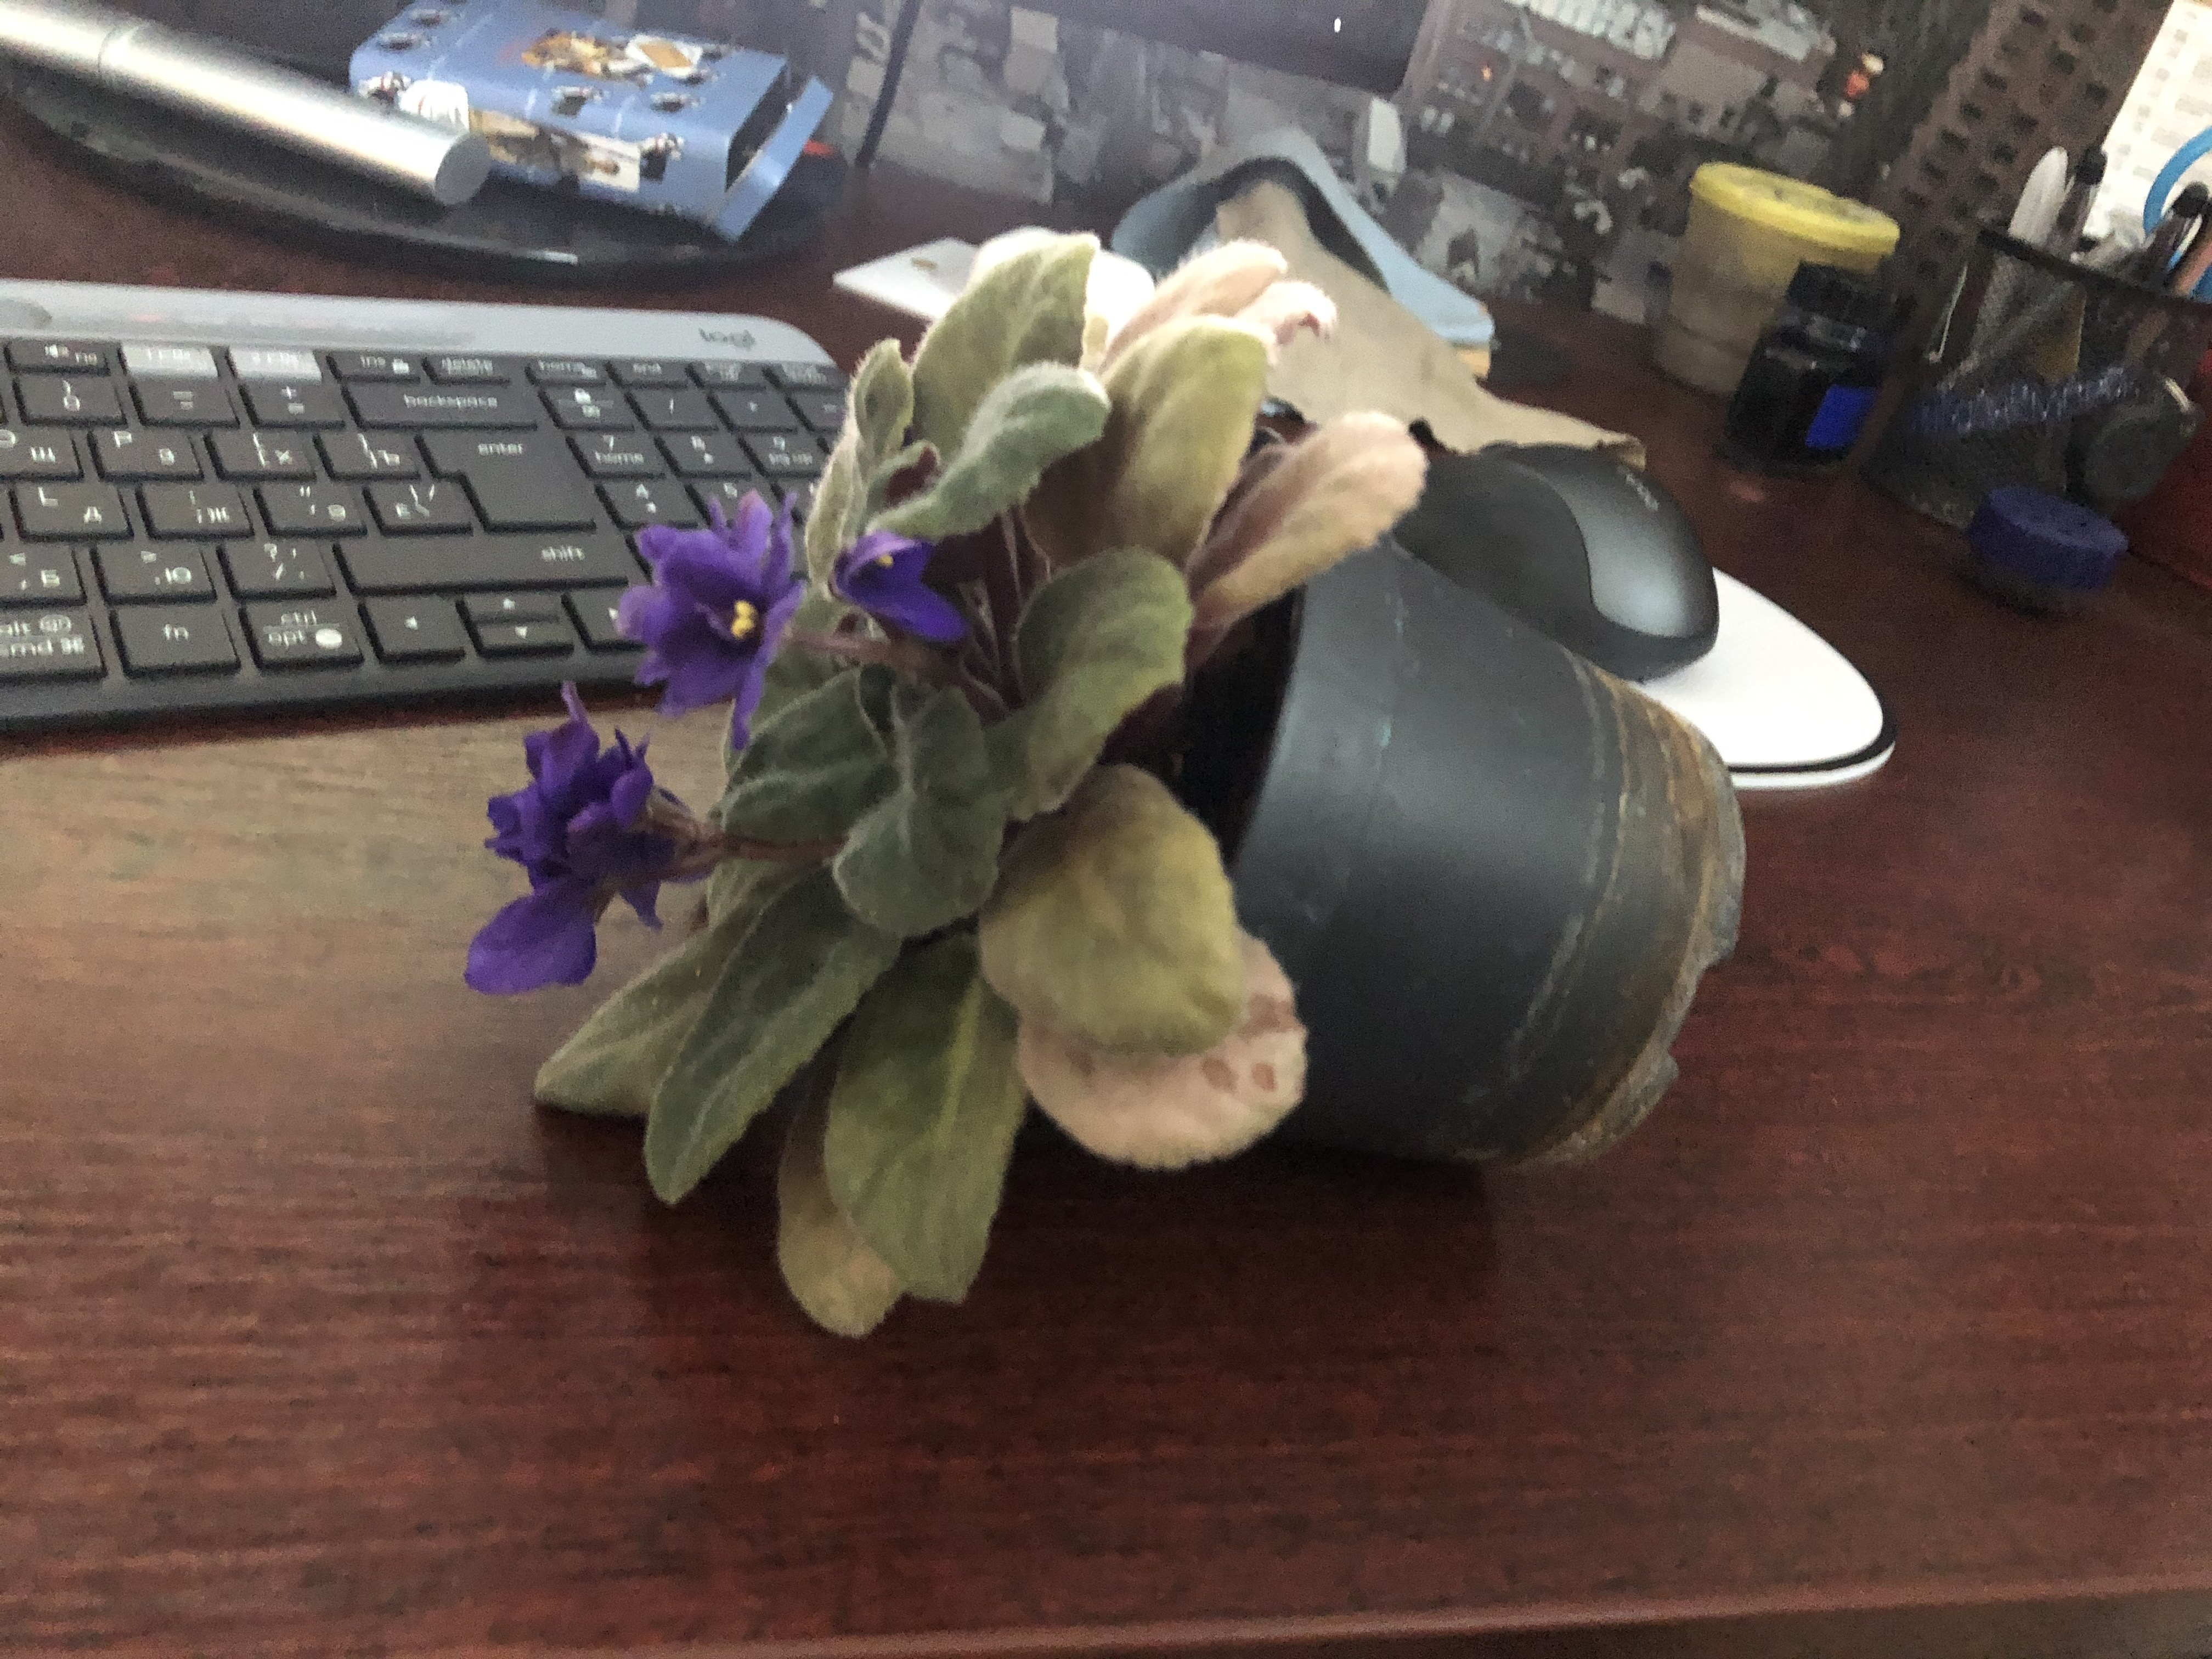ignore: (475, 223, 1366, 1351)
